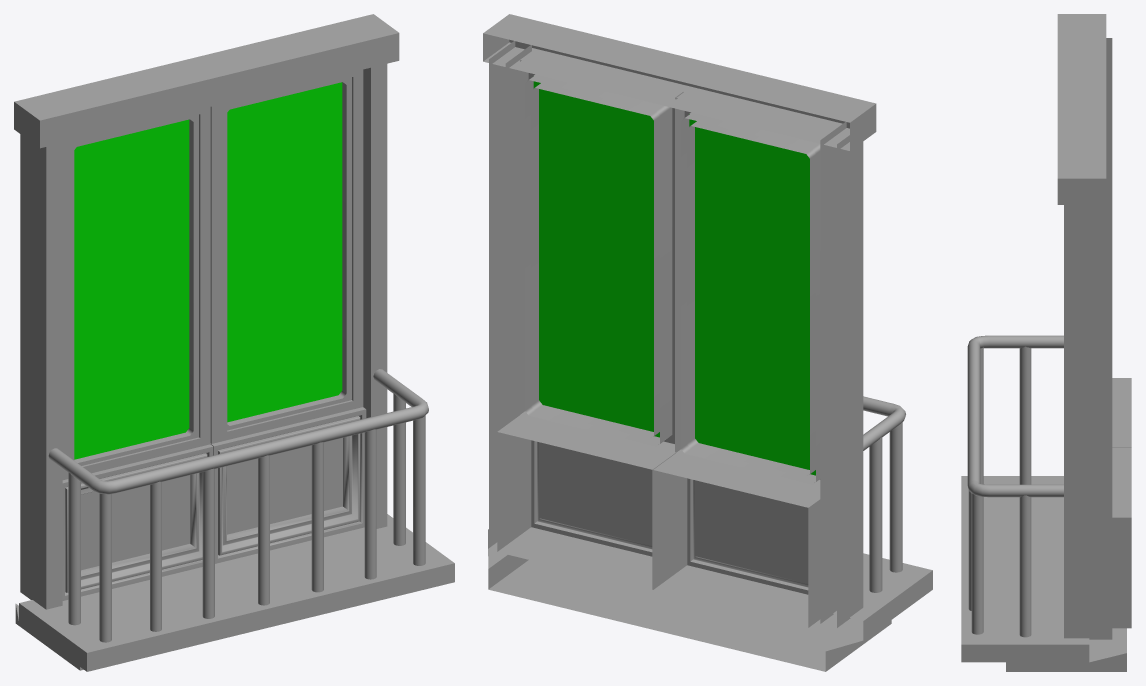
File: SM_Fenetre_4.fbx
3 views of the same model, side by side, from view 1: azimuth 30°, elevation 25°; view 2: azimuth 150°, elevation 25°; view 3: azimuth 270°, elevation 25° (orthographic). The views are drawn at different scales.
Visible parts, largest first — view 1: polySurface57, polySurface61, polySurface59, polySurface65, polySurface64, polySurface56, polySurface60, polySurface63, polySurface66, polySurface58, polySurface62, polySurface73 (+8 smaller); view 2: polySurface57, polySurface61, polySurface60, polySurface56, polySurface64, polySurface59, polySurface65, polySurface58, polySurface63, polySurface62, polySurface77, polySurface69 (+1 smaller); view 3: polySurface63, polySurface59, polySurface65, polySurface66, polySurface56, polySurface76, polySurface70, polySurface77, polySurface60, polySurface64, polySurface69, polySurface73.
Part boxes in pixels (x1,y1,x2,y2): polySurface57: (210,69,363,443); polySurface61: (62,107,210,480); polySurface59: (15,514,454,671); polySurface65: (14,14,399,148); polySurface64: (20,134,62,609); polySurface56: (210,407,366,563); polySurface60: (62,444,213,600); polySurface63: (363,64,387,528); polySurface66: (48,369,428,494); polySurface58: (227,77,351,430); polySurface62: (74,114,198,465); polySurface73: (364,429,376,579); polySurface57: (520,54,683,452); polySurface61: (676,92,835,487); polySurface60: (653,453,820,627); polySurface56: (497,415,676,589); polySurface64: (820,122,863,627); polySurface59: (488,529,932,671); polySurface65: (483,14,876,150); polySurface58: (525,74,672,446); polySurface63: (489,41,531,542); polySurface62: (681,112,820,484); polySurface77: (869,437,882,592); polySurface69: (889,422,902,572); polySurface63: (1064,187,1112,639); polySurface59: (961,476,1126,671); polySurface65: (1057,14,1106,204); polySurface66: (967,335,1063,497); polySurface56: (1112,448,1131,628); polySurface76: (1019,495,1031,637); polySurface70: (971,493,983,634); polySurface77: (1019,346,1031,484); polySurface60: (1112,378,1131,447); polySurface64: (1106,38,1112,186); polySurface69: (980,347,983,484); polySurface73: (968,490,971,610).
Size of the model in its own units: 300 by 415 by 128.
